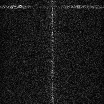wifi: (1, 4, 104, 8)
